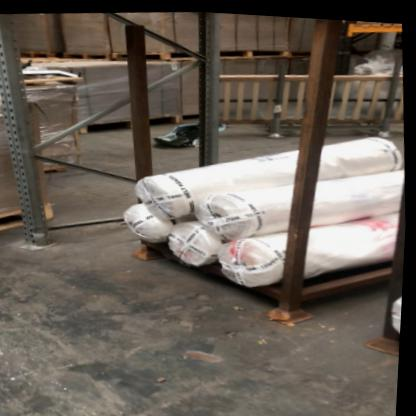vertical_damage: (17, 217, 65, 254)
